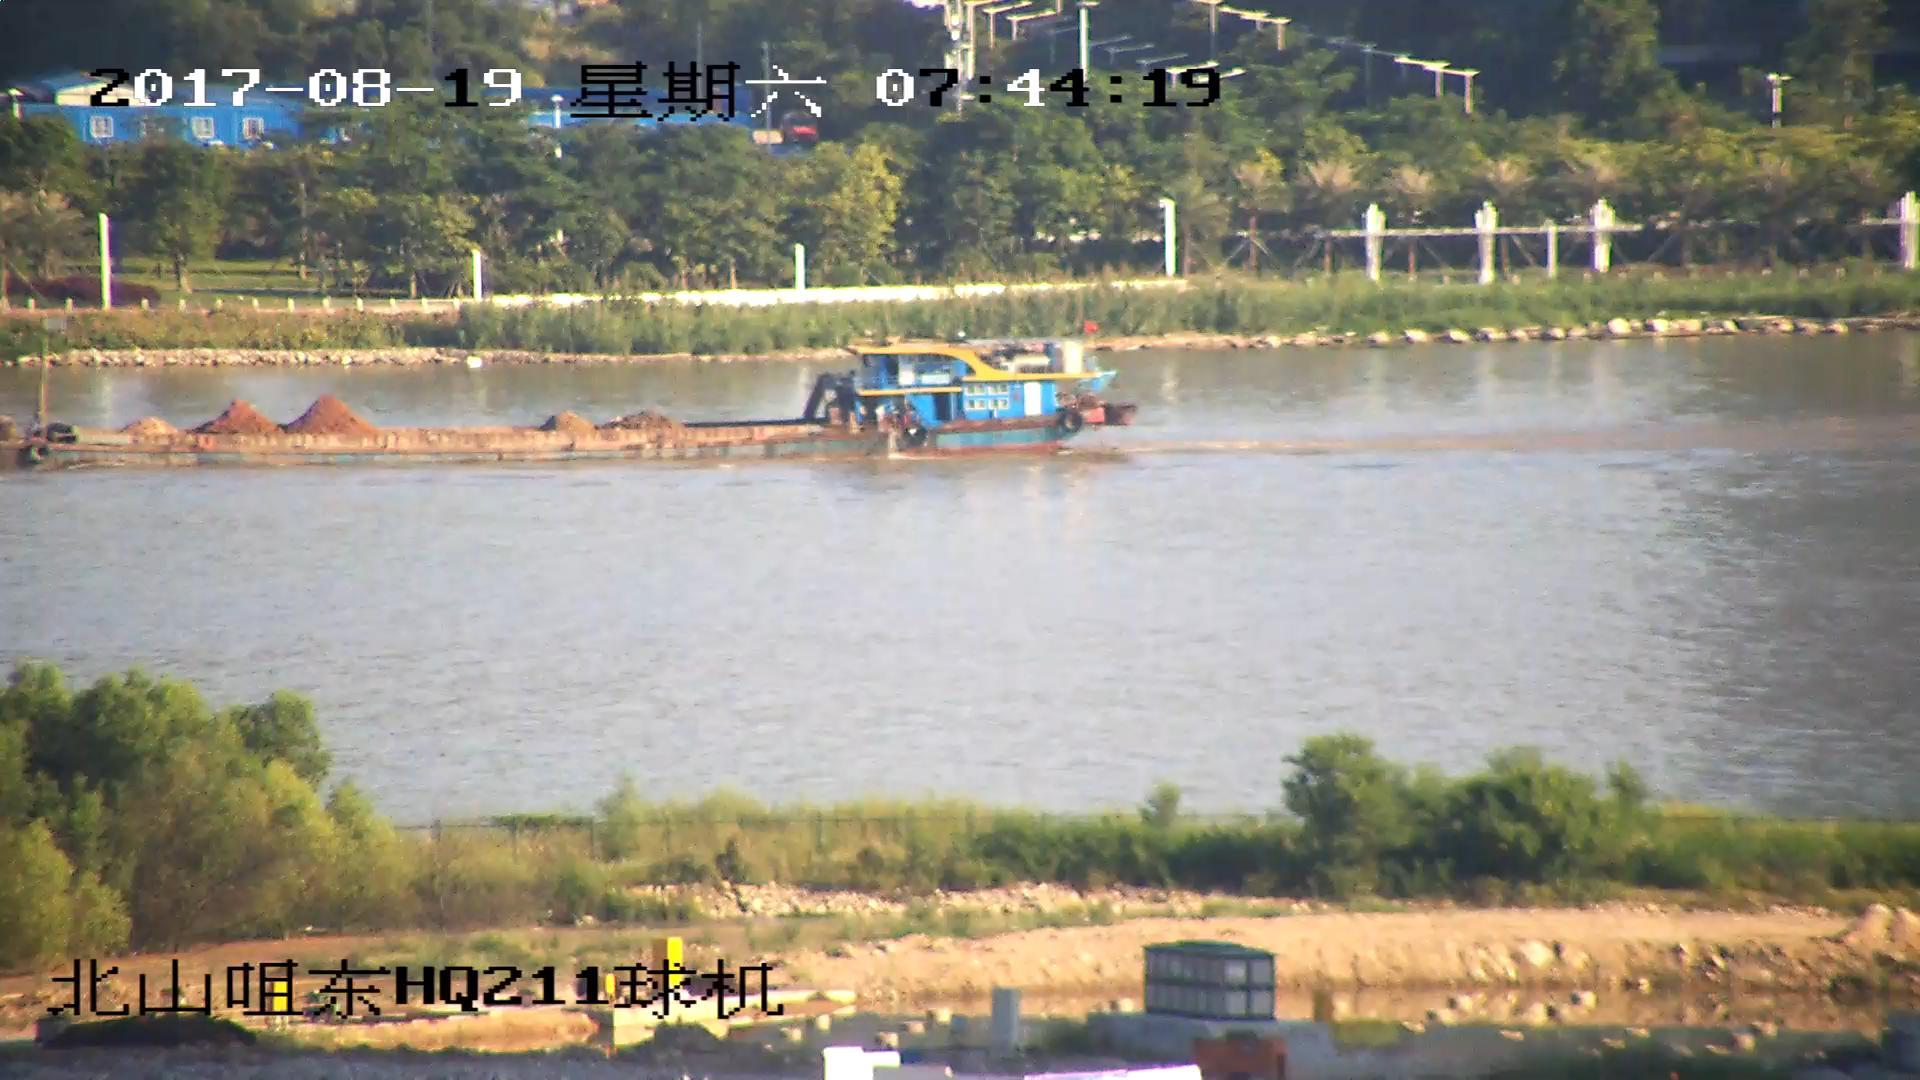Ship: (3, 318, 1138, 465)
